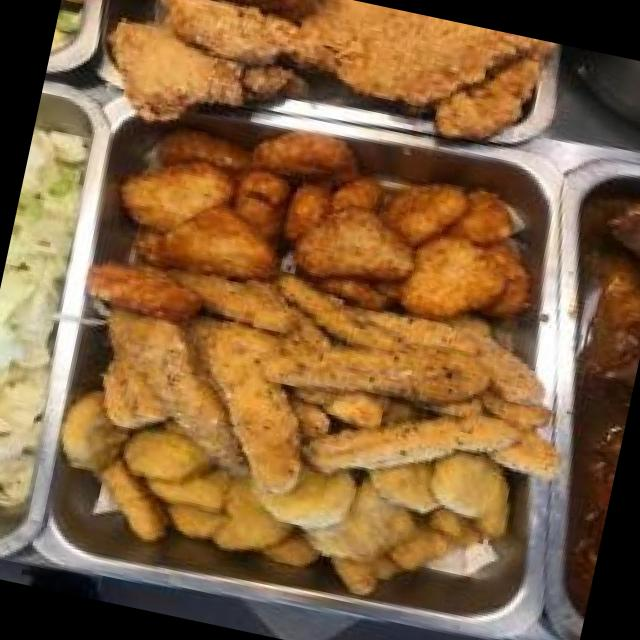chicken_nuggets: (96, 420, 443, 587)
chinese_cabbage: (0, 139, 78, 484)
fried_chicken: (130, 0, 518, 123)
triangle_hash_brown: (117, 128, 535, 322)
